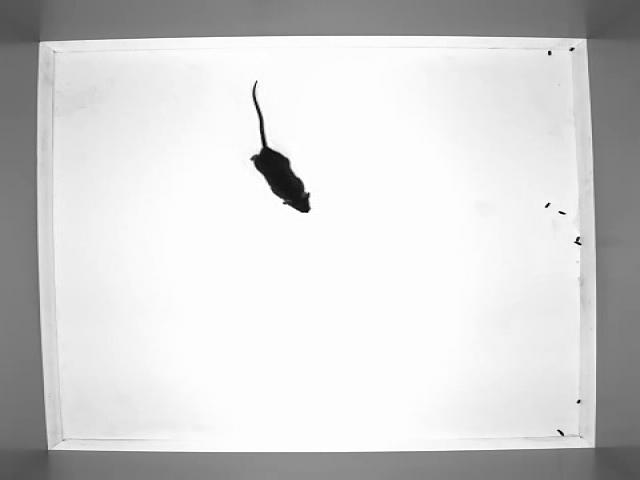Tikus: (242, 75, 322, 223)
